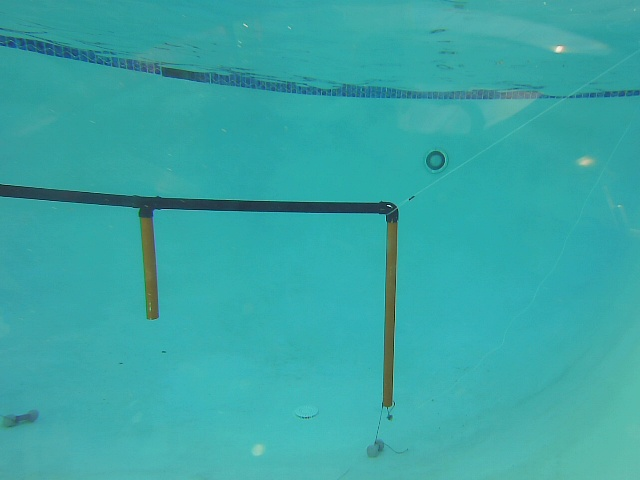Gate: (377, 215, 402, 412), (136, 208, 162, 324)
